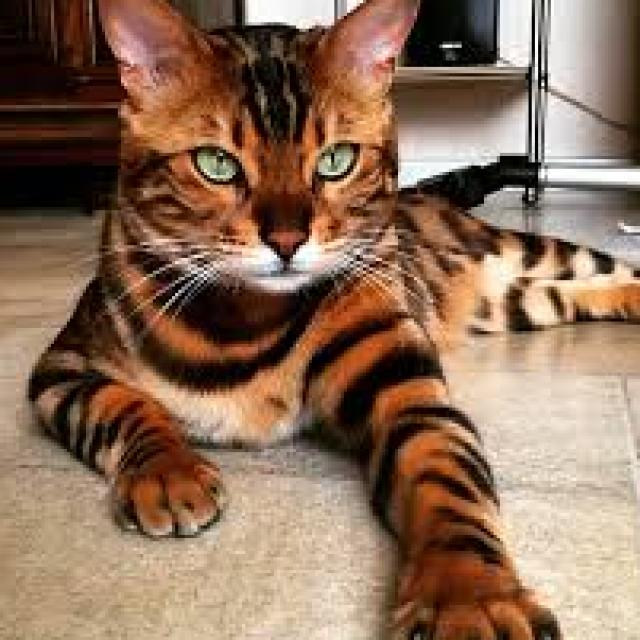Toyger: (25, 0, 640, 640)
